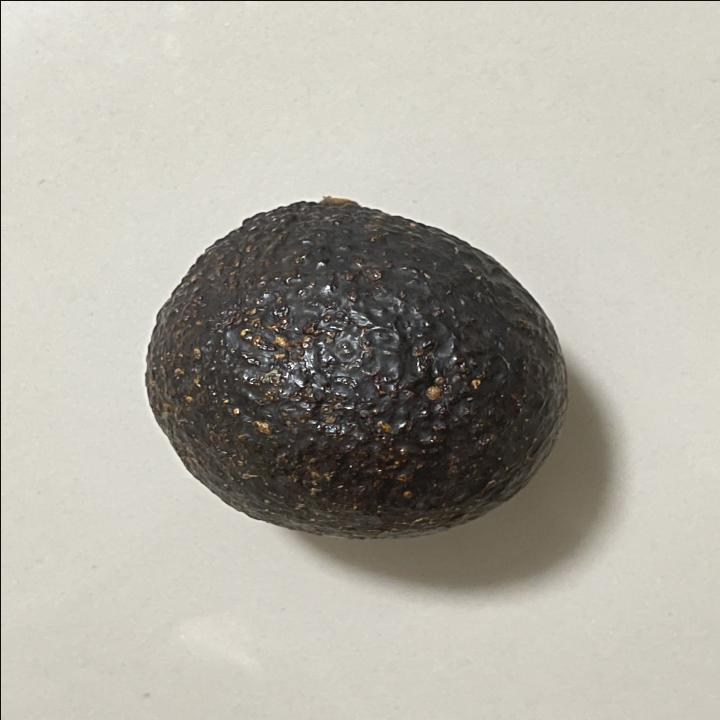Level3: (132, 184, 580, 546)
